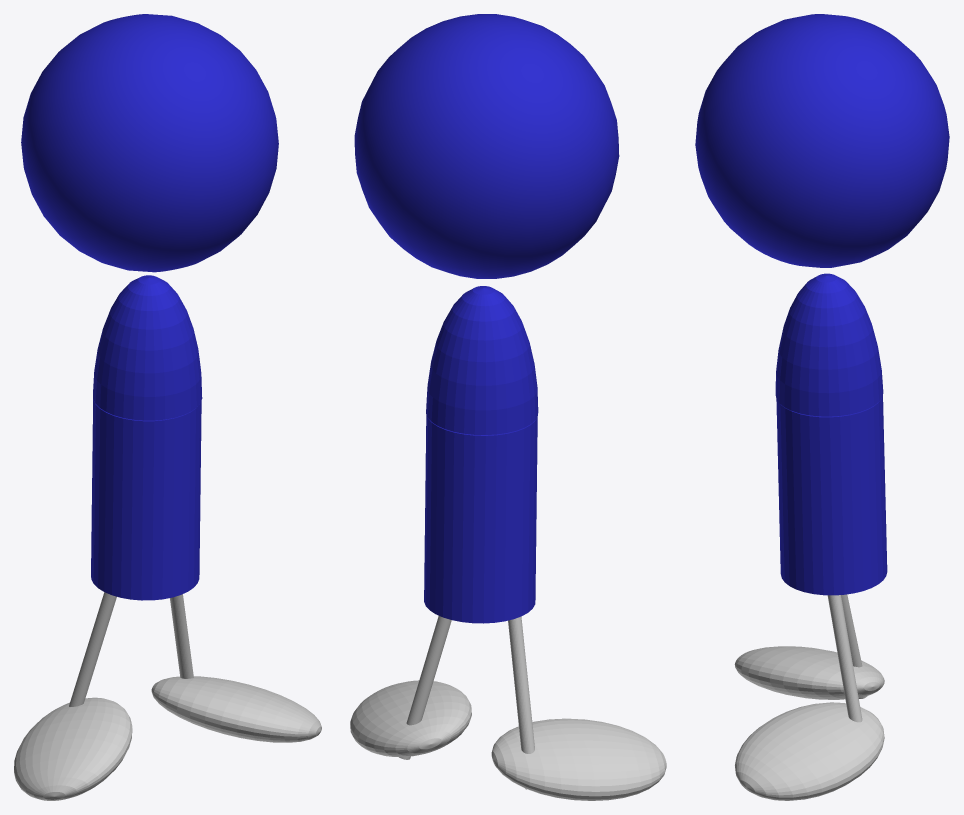
Rendered from player_blue.obj.
3 views of the same model, side by side, from view 1: azimuth 30°, elevation 25°; view 2: azimuth 150°, elevation 25°; view 3: azimuth 270°, elevation 25° (orthographic). The views are drawn at different scales.
Parts seen in each view (by area): view 1: Sphere, Sphere.001_Sphere.004, Cylinder.000_Cylinder.002, Cylinder.001; view 2: Sphere, Sphere.001_Sphere.004, Cylinder.000_Cylinder.002, Cylinder.001; view 3: Sphere, Sphere.001_Sphere.004, Cylinder.001, Cylinder.000_Cylinder.002.
Boxes of the visible parts, x1,y1,x2,y2 form: Sphere: [21, 14, 278, 272]; Sphere.001_Sphere.004: [91, 275, 202, 600]; Cylinder.000_Cylinder.002: [14, 592, 132, 800]; Cylinder.001: [151, 594, 321, 742]; Sphere: [354, 14, 619, 278]; Sphere.001_Sphere.004: [424, 286, 538, 623]; Cylinder.000_Cylinder.002: [491, 616, 666, 800]; Cylinder.001: [350, 616, 471, 759]; Sphere: [695, 14, 949, 267]; Sphere.001_Sphere.004: [775, 273, 887, 595]; Cylinder.001: [735, 595, 884, 800]; Cylinder.000_Cylinder.002: [734, 594, 884, 699].
Size of the model in its own units: 2.58 by 6.19 by 2.
